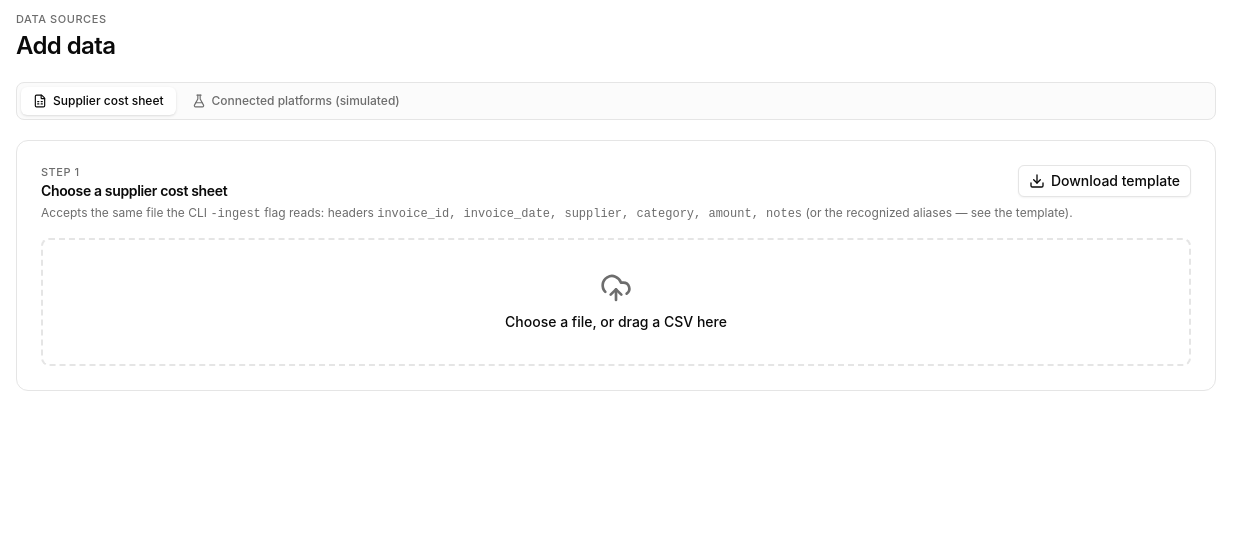
UploadPage › switches panels on click, hiding rather than discarding the other one
The image size is (1233, 560).
Click the tab "Connected platforms (simulated)": click(296, 101) [180, 87, 412, 115]
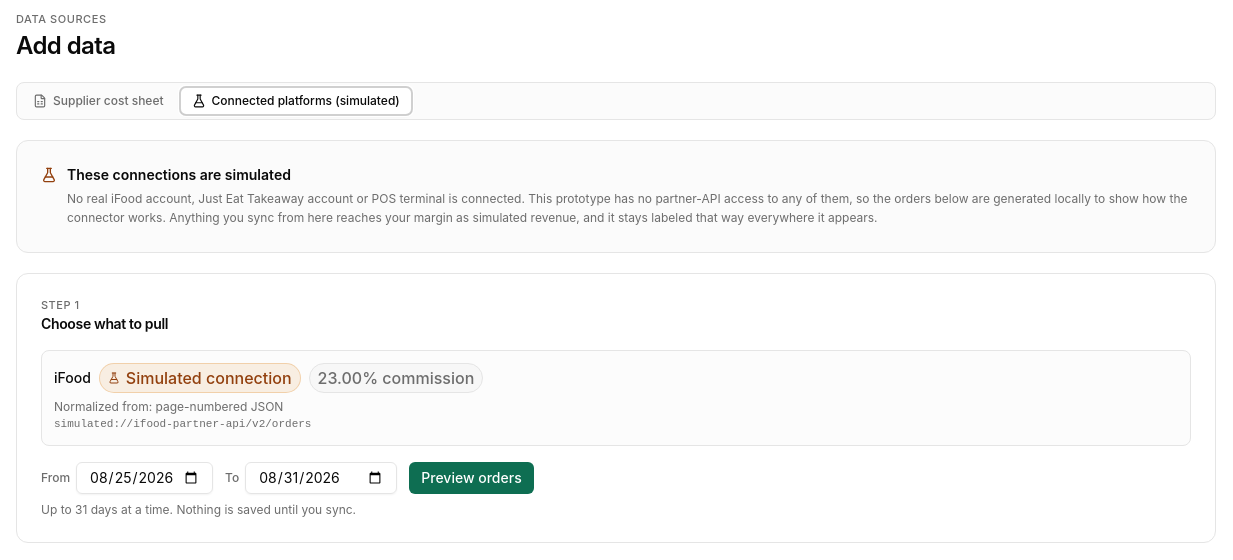
Check: the heading "These connections are simulated" is shown, box [67, 166, 291, 183]
